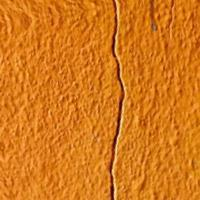crack: (87, 0, 142, 199)
